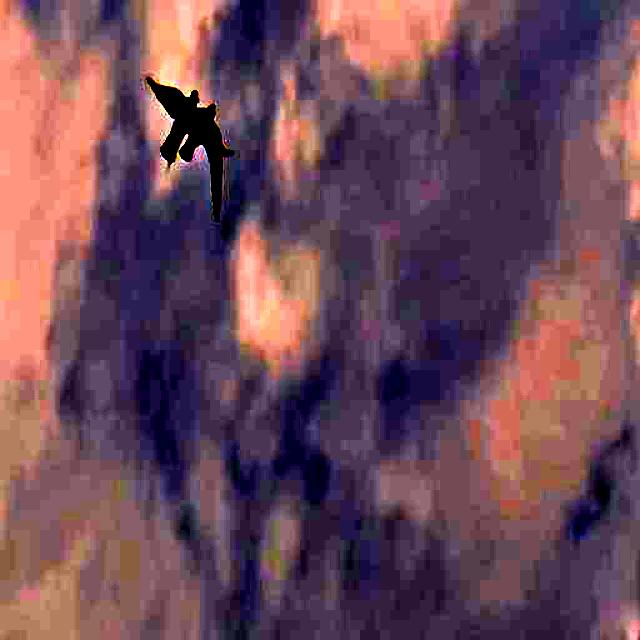airplane: (141, 60, 241, 239)
